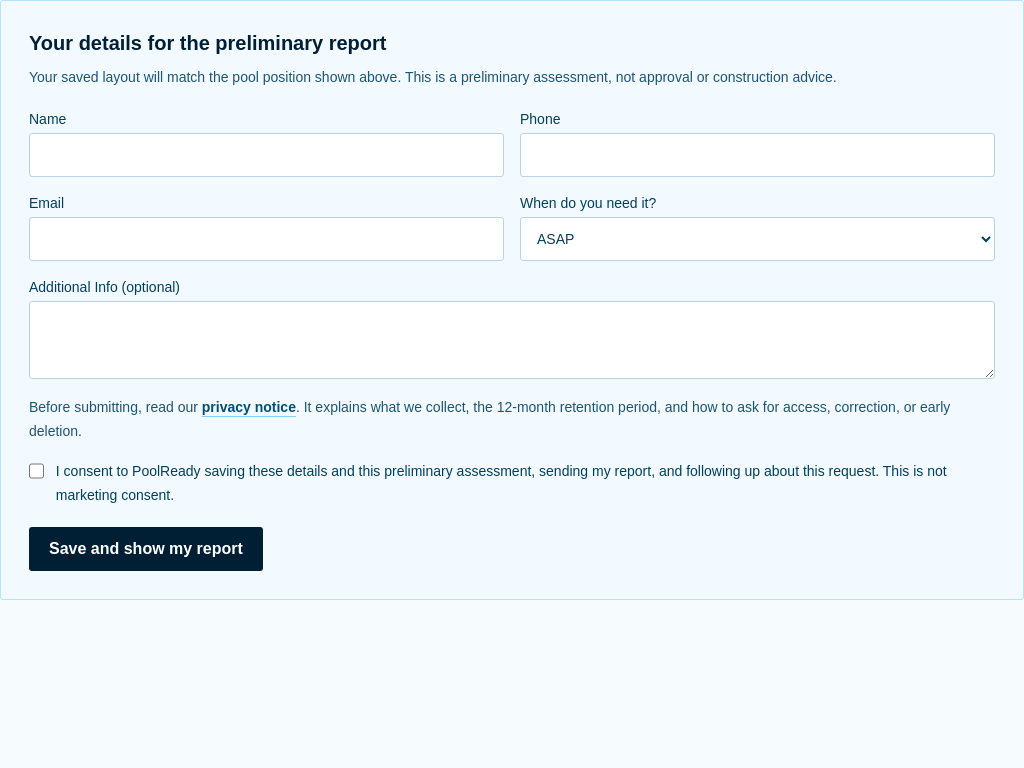
Test: homeowner report submission › does not submit a placement whose construction envelope is outside the mapped property
Type "Jane Homeowner" into the field labelled "Name" at (266, 155), box [29,133,504,177]
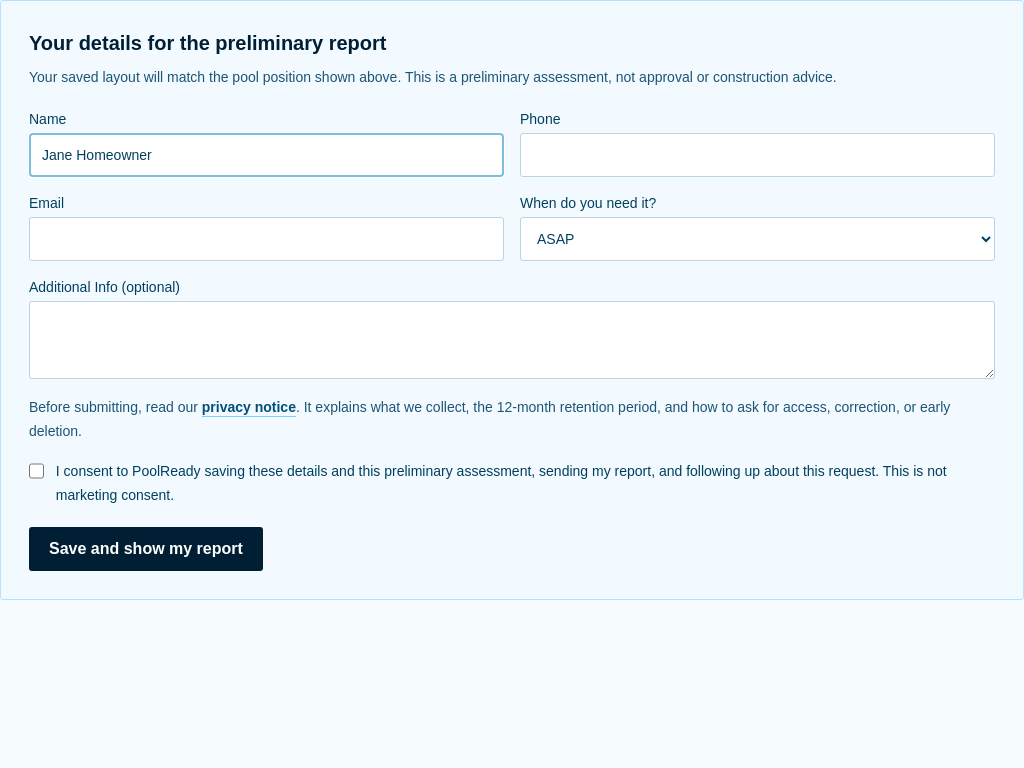
Type "021 555 1234" into the field labelled "Phone" at (758, 155), box [520,133,995,177]
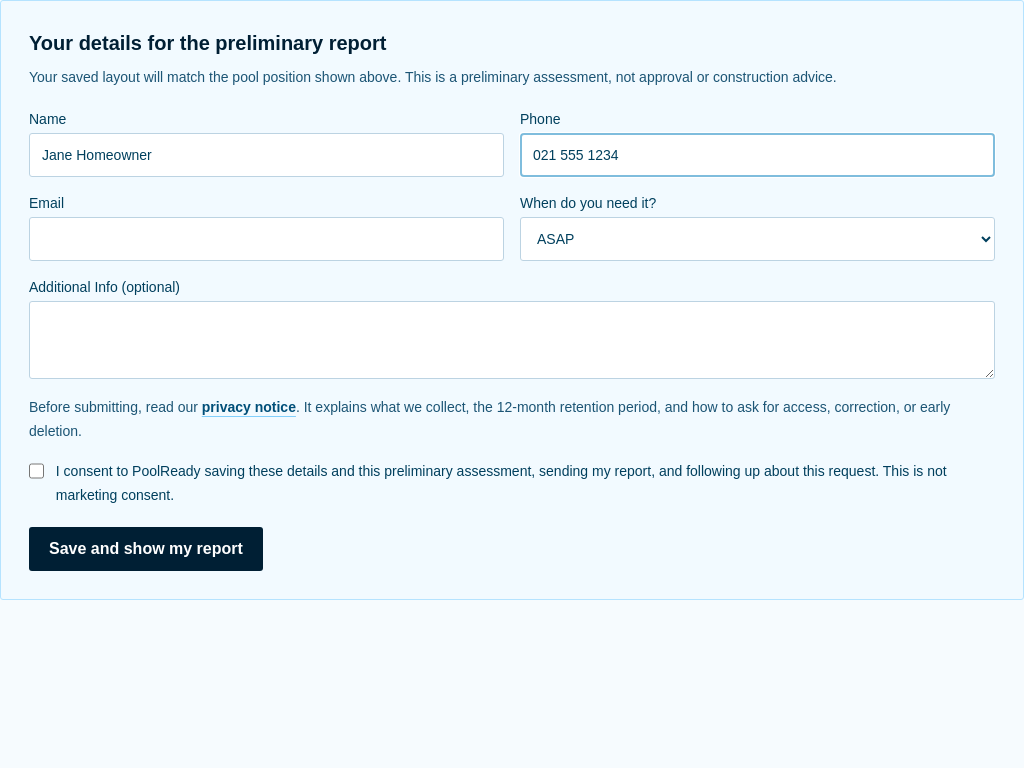
Type "jane@example.com" into the field labelled "Email" at (266, 239), box [29,217,504,261]
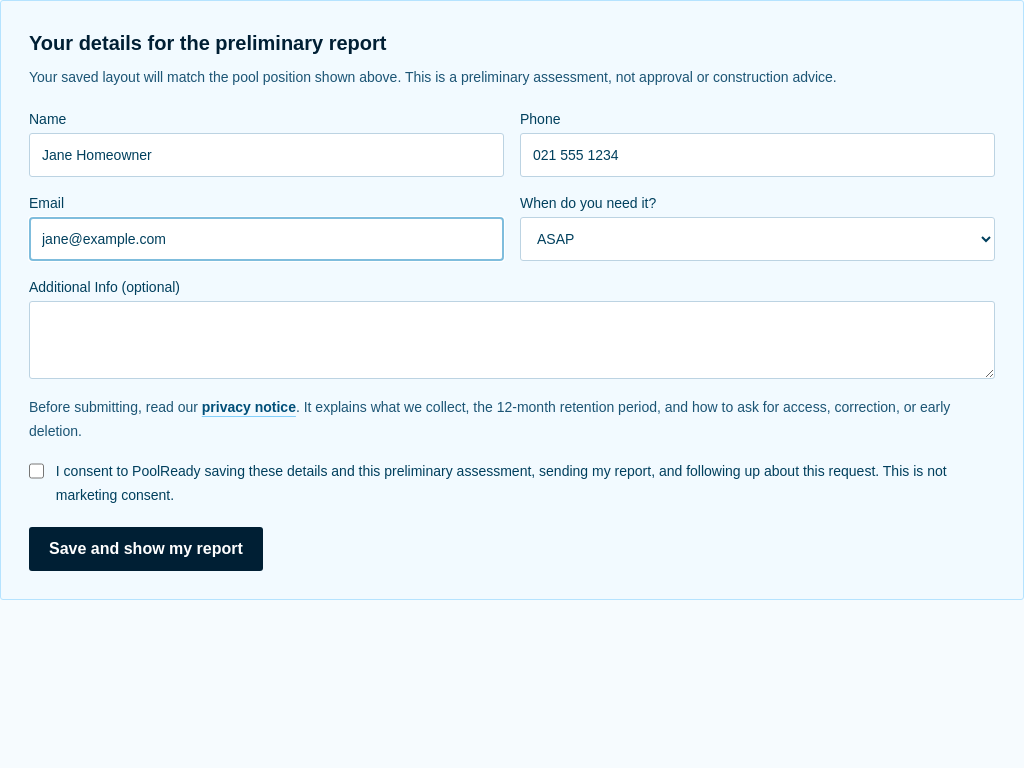
Click the checkbox at (36, 471), box [29,463,44,479]
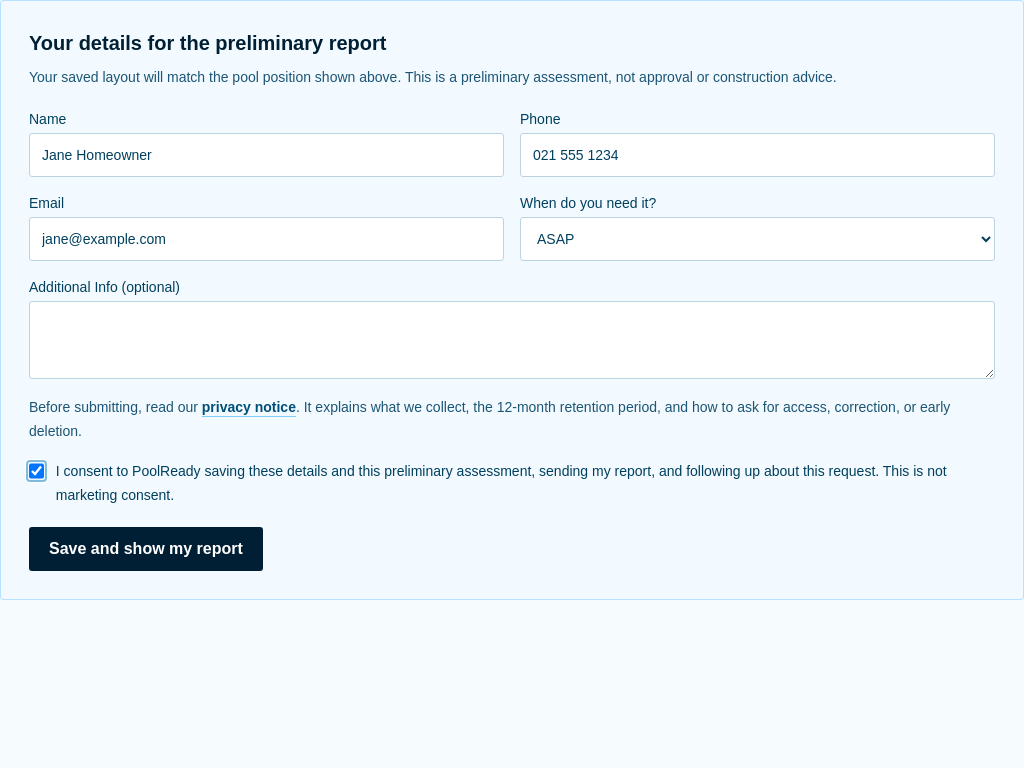
Click the button "Save and show my report" at (146, 549), box [29,527,263,571]
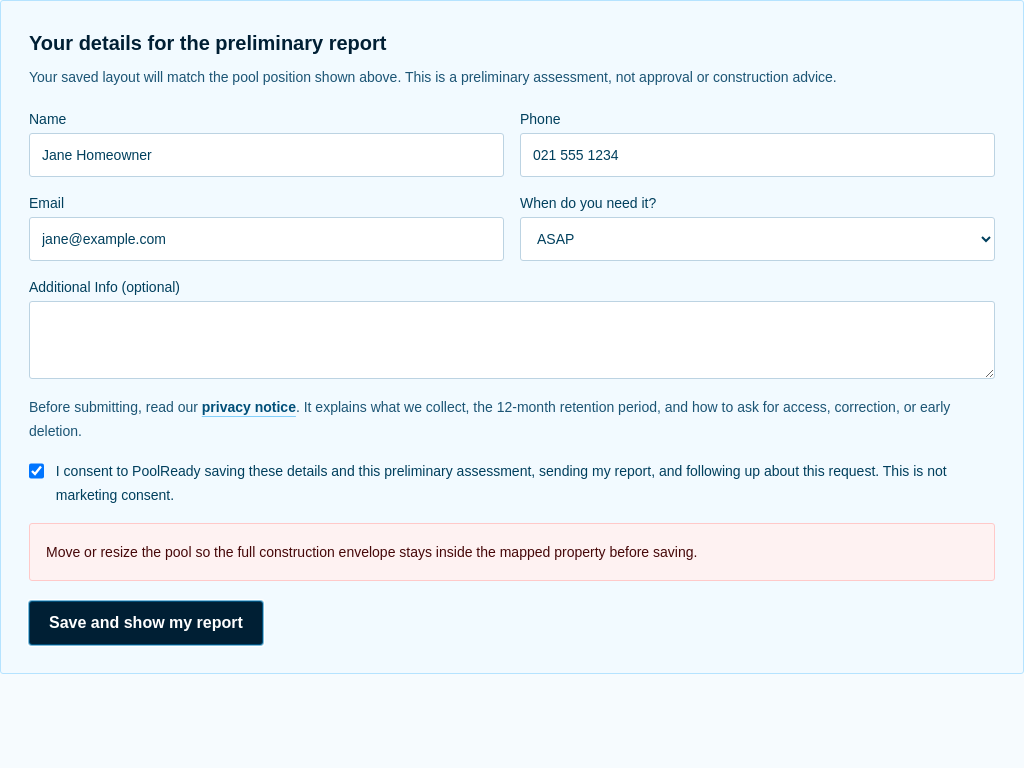
Expected: the message shows "Move or resize the pool so the full construction envelope stays inside the mapped property before saving.", [46,544,697,560]
